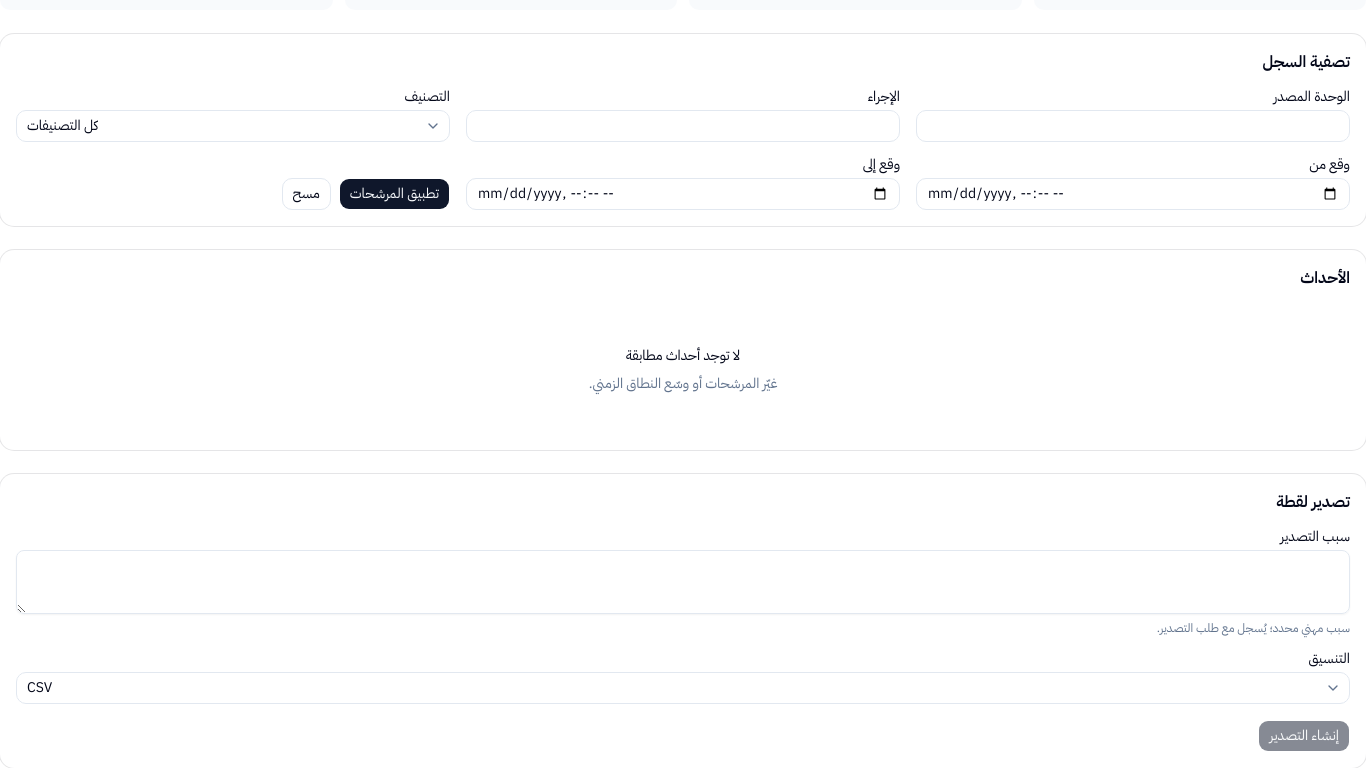
Test case: audit filter and export Selects › renders the audit export format as a Radix combobox with csv and ndjson options
(page scrolled)
Click the dropdown named "التنسيق": (40, 688) [16, 672, 1350, 704]
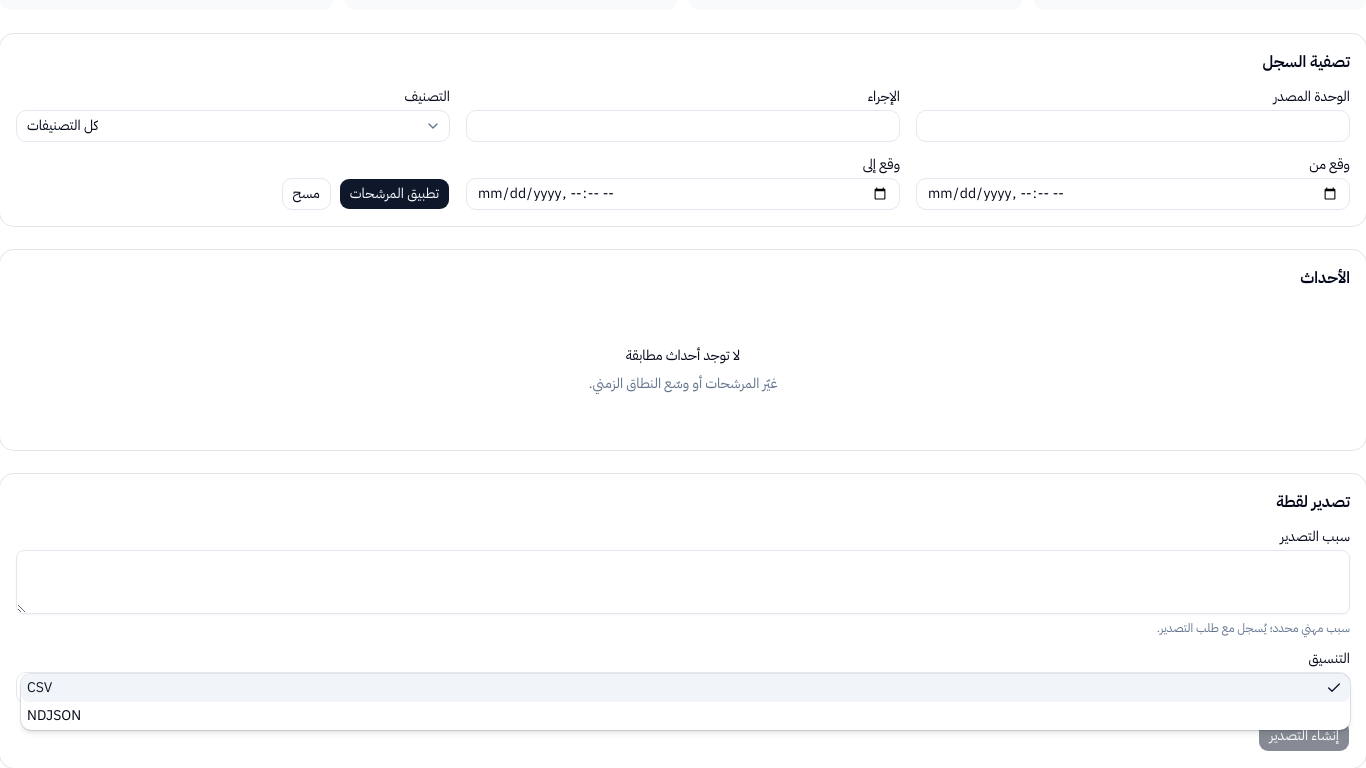
Now the option "CSV" is shown, box [21, 674, 1350, 702]
Now the option "NDJSON" is shown, box [27, 705, 81, 726]
